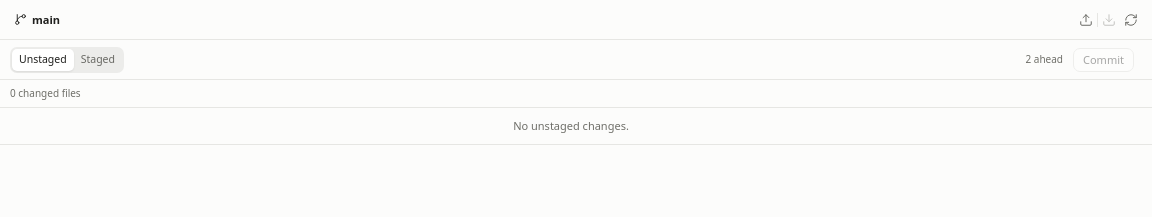
Scenario: ChangesPanel status states › lists unpushed commits behind the ahead label and undoes one on demand
Click the button "2 ahead" at (1044, 60), box top-left (1018, 48), bottom-right (1070, 72)
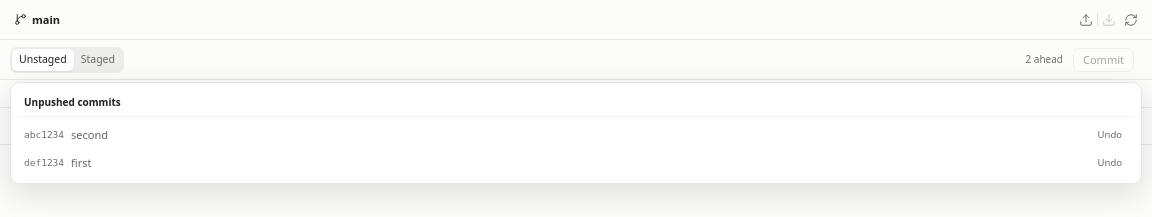
Expected: the text "second" is shown, top-left (71, 127), bottom-right (108, 142)
Expected: the text "abc1234" is shown, top-left (24, 129), bottom-right (64, 141)
Click the button "Undo" in the row of "second" at (1110, 135), box top-left (1092, 125), bottom-right (1128, 145)
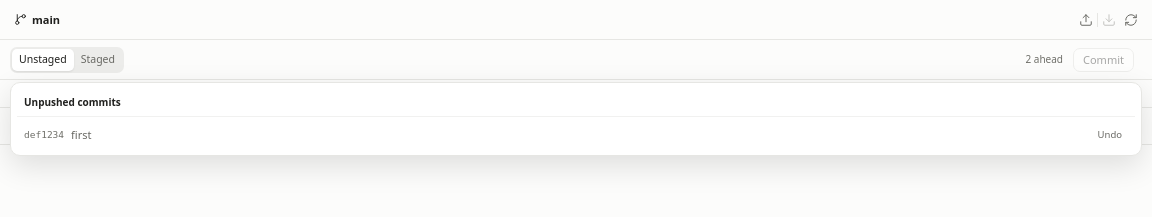
Expected: the text "second" is gone
